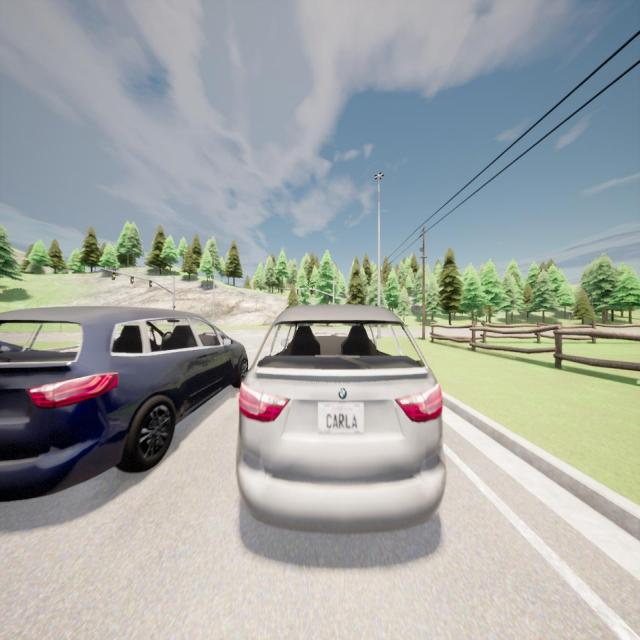Vehicle: (0, 307, 249, 505), (237, 306, 445, 534)
traffic_light: (112, 272, 116, 281), (130, 276, 134, 284), (148, 280, 152, 288)
